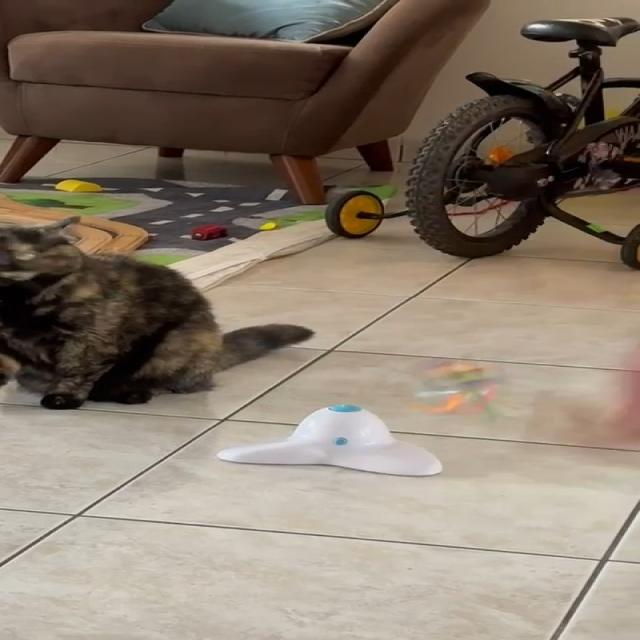authorized: (0, 215, 315, 410)
